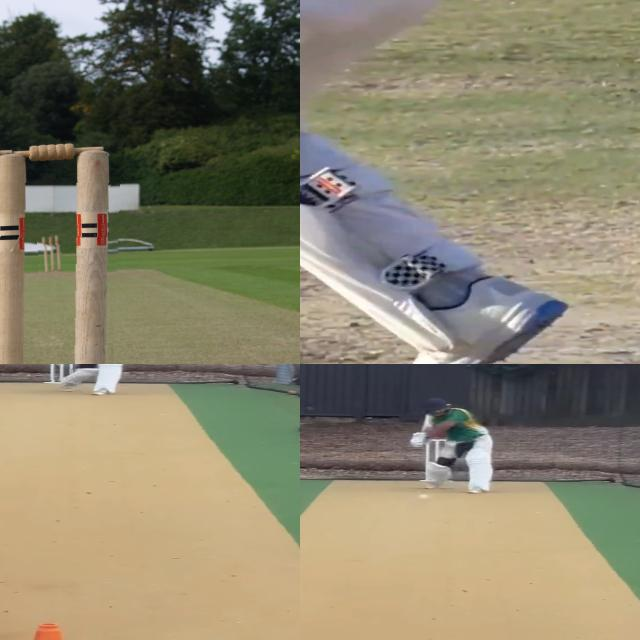Cricket ball: (416, 492, 434, 502), (53, 364, 67, 366)
Stumps: (0, 141, 122, 364), (37, 232, 62, 275), (44, 364, 73, 385)
